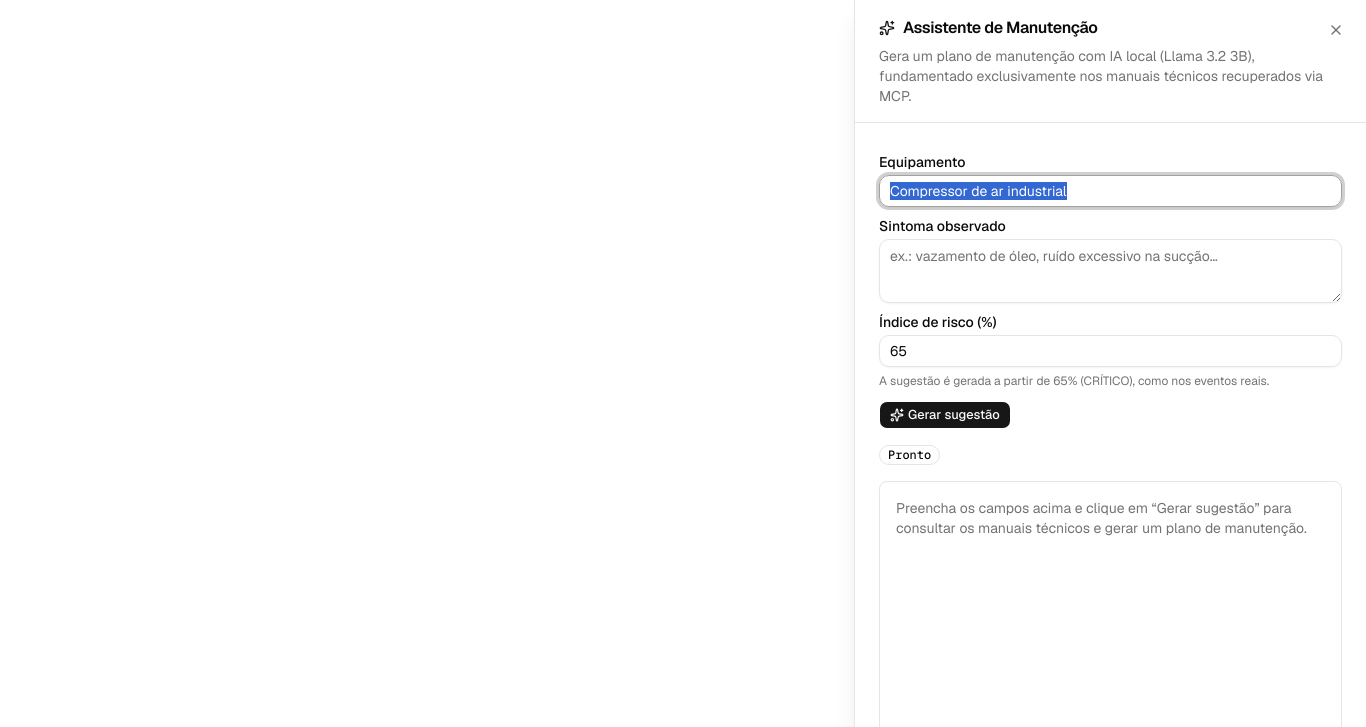
Test case: MaintenanceAssistant › K) neutraliza HTML bruto e links javascript: vindos do Markdown gerado
The image size is (1366, 727).
Click the button "Gerar sugestão" at (945, 415), box [879,401,1011,429]
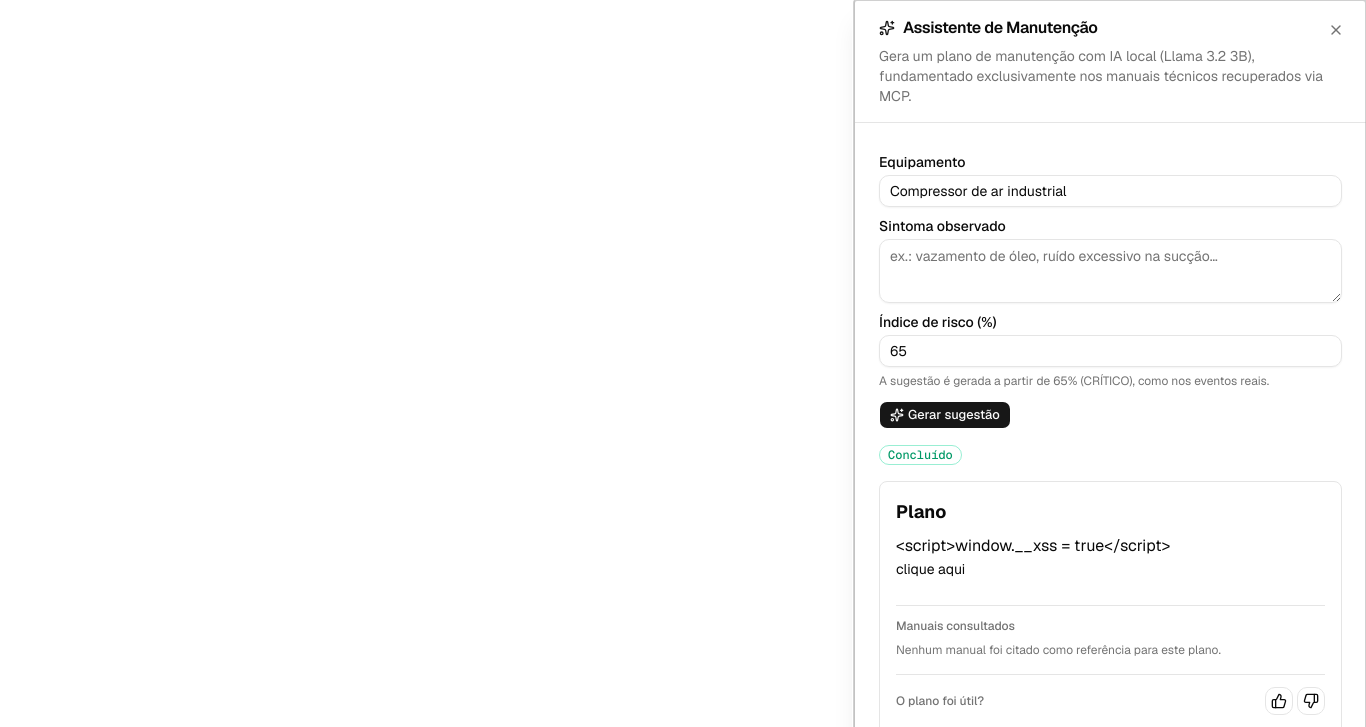
Check: the heading "Plano" is shown, box [896,500,946,523]
